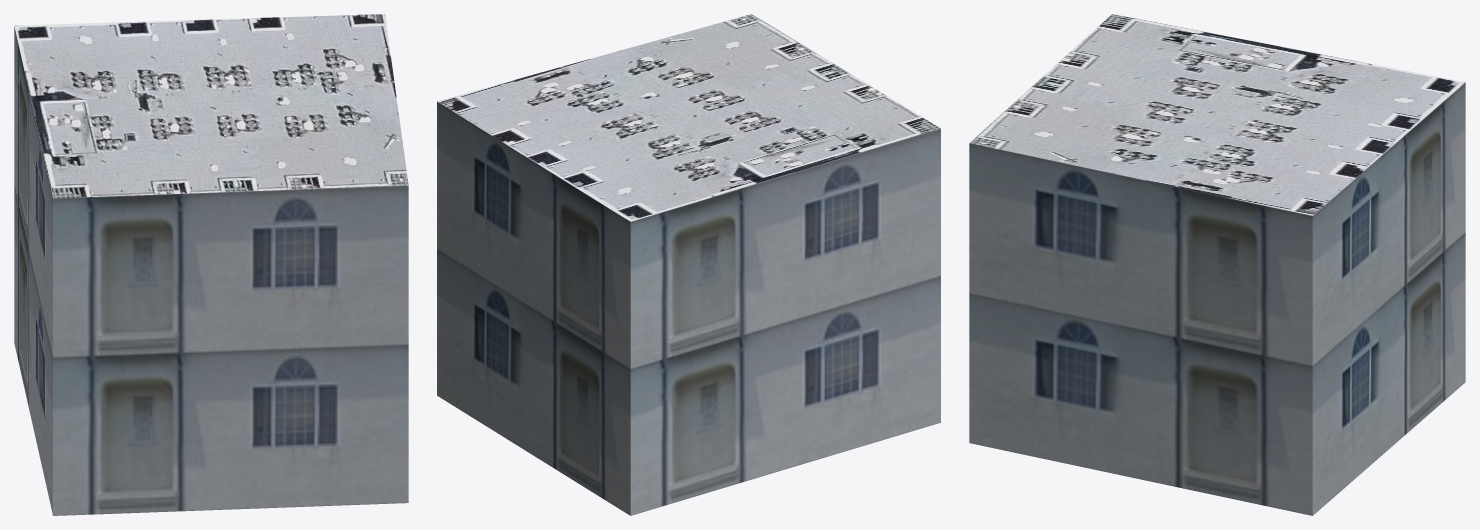
The model's file is ResTex__3773.fbx.
3 renders of one model, left to right at view 1: azimuth 30°, elevation 25°; view 2: azimuth 150°, elevation 25°; view 3: azimuth 270°, elevation 25°, orthographic. The views are drawn at different scales.
Visible parts, largest first — view 1: CityEngineMaterial_17_m, CityEngineMaterial_8_m; view 2: CityEngineMaterial_17_m, CityEngineMaterial_8_m; view 3: CityEngineMaterial_17_m, CityEngineMaterial_8_m.
Part boxes in pixels (x1=…): CityEngineMaterial_17_m: x1=14, y1=27, x2=408, y2=515; CityEngineMaterial_8_m: x1=14, y1=14, x2=408, y2=198; CityEngineMaterial_17_m: x1=437, y1=101, x2=940, y2=515; CityEngineMaterial_8_m: x1=437, y1=14, x2=940, y2=221; CityEngineMaterial_17_m: x1=969, y1=82, x2=1465, y2=515; CityEngineMaterial_8_m: x1=970, y1=14, x2=1464, y2=215.
Size of the model in its own units: 8.66 by 6 by 8.99.
2 materials, 2 textured.
